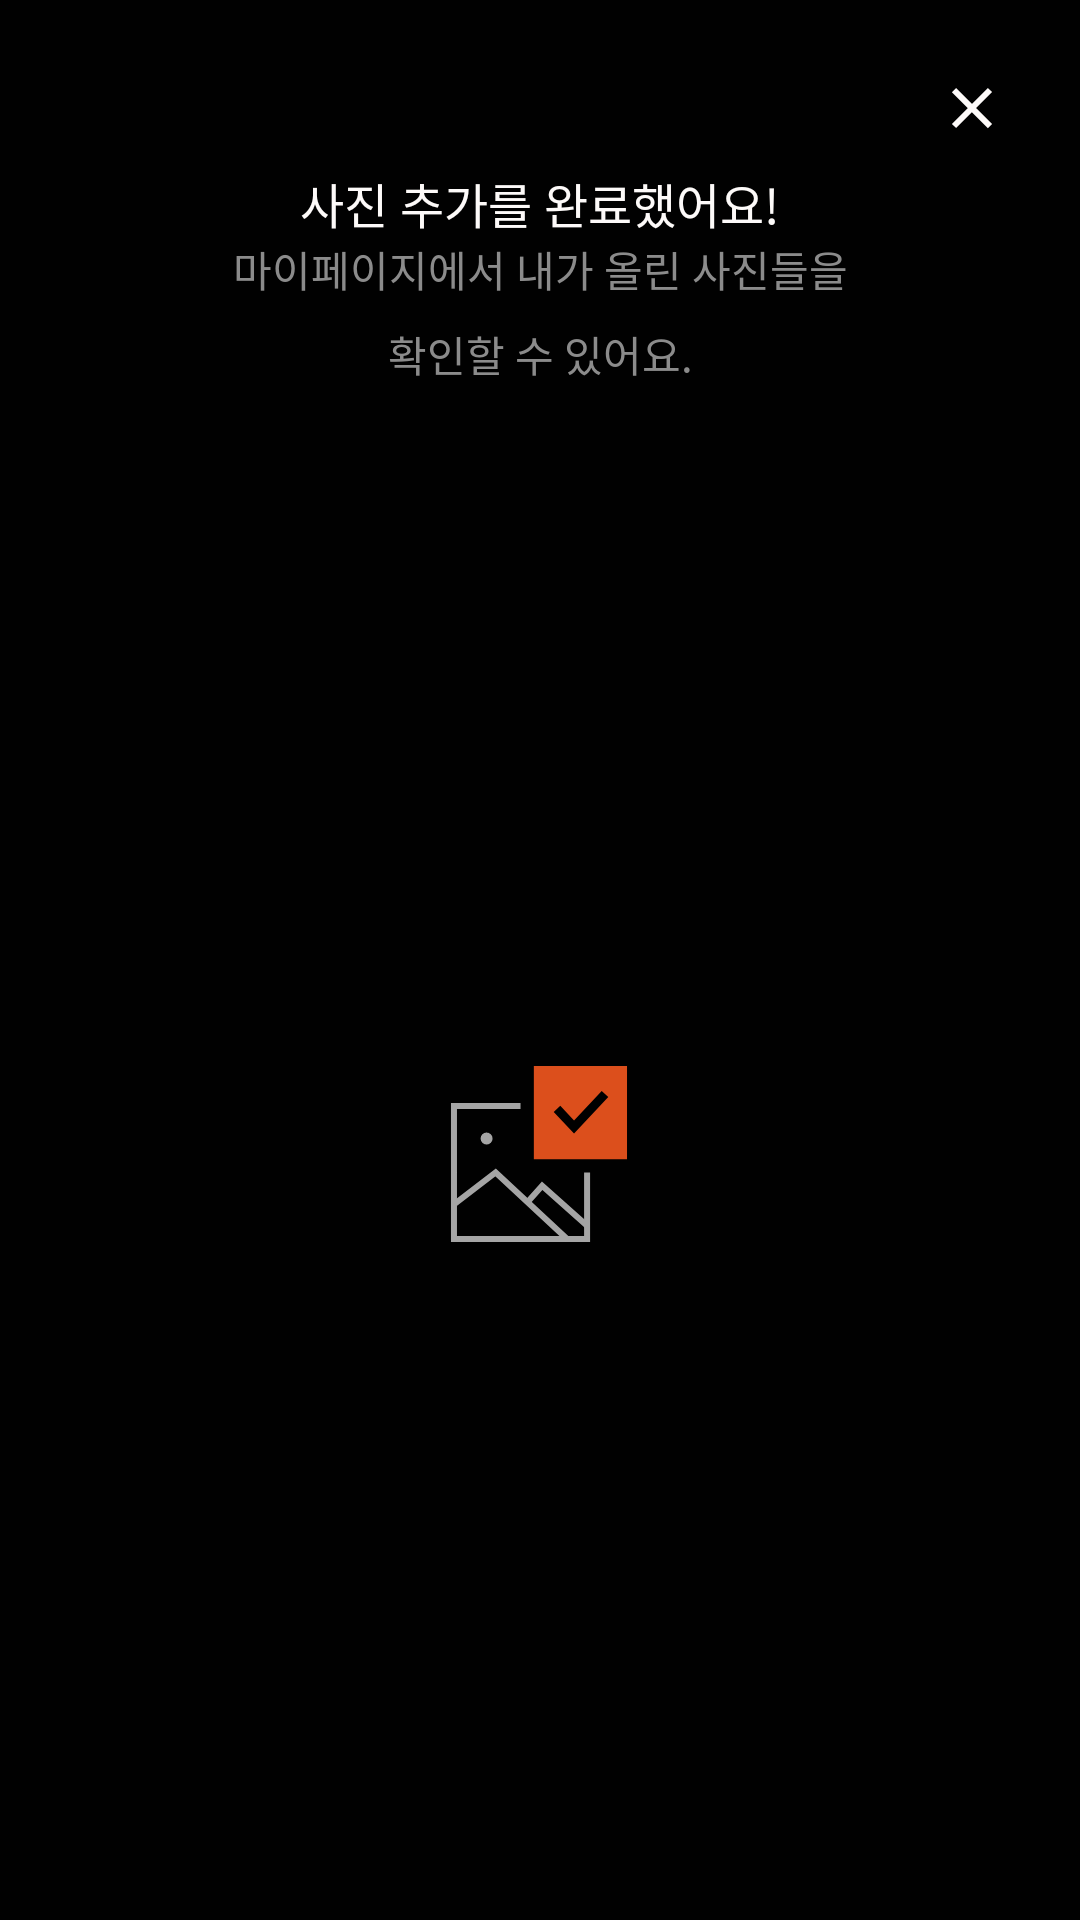

Icons on this 1080px×1920px Android screen, each with its box as [x1,y1,x2,y2]:
close: [952,88,992,128]
photo: [451,1066,627,1242]
